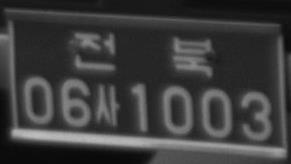0: (200, 87, 233, 139), (162, 84, 194, 136), (23, 74, 54, 125)
1: (127, 82, 153, 133)
3: (240, 89, 273, 142)
6: (59, 78, 92, 128)
사: (94, 84, 120, 127)
전북_D: (73, 29, 214, 78)
